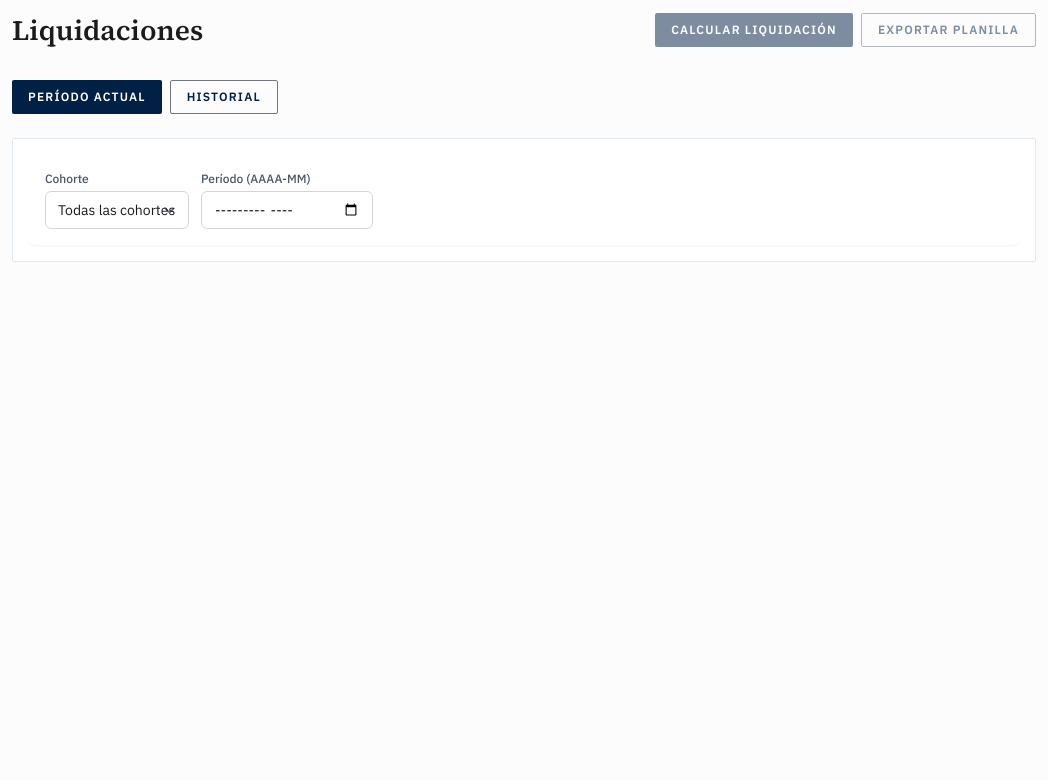
LiquidacionesPage — Calcular liquidación › al seleccionar cohorte y período se habilita y dispara POST /api/liquidaciones/calcular
The width and height of the screenshot is (1048, 780).
Select "Cohorte 2026" in the dropdown labelled "Cohorte" at (117, 210), box [45, 191, 189, 229]
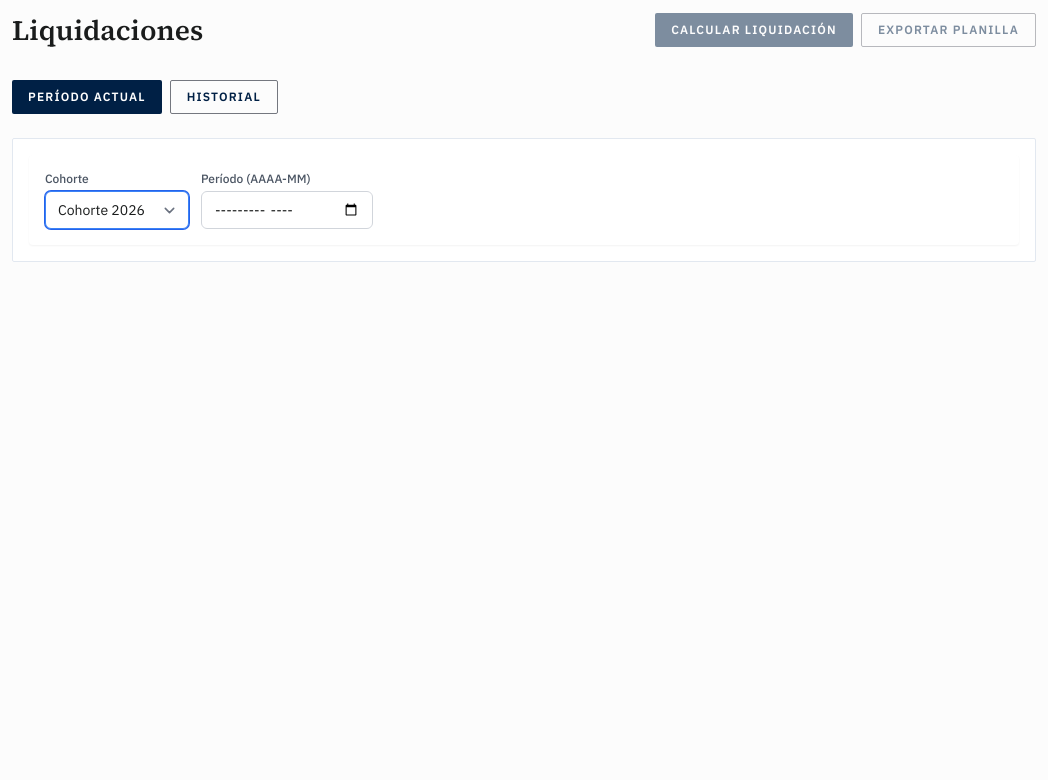
Type "2026-06" into the field labelled "Período (AAAA-MM)".
click(287, 210); type("2026-06")  # box [201, 191, 373, 229]
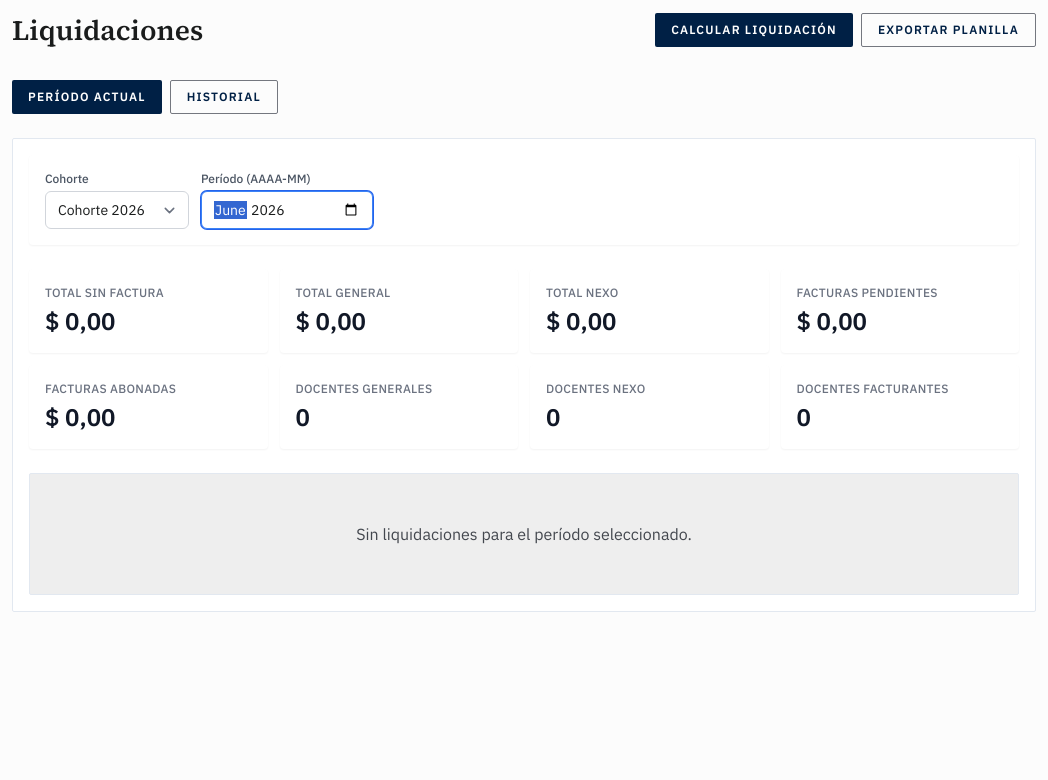
Check: the button "Calcular liquidación" is enabled
Click the button "Calcular liquidación".
click(754, 30)  # box [655, 13, 853, 47]
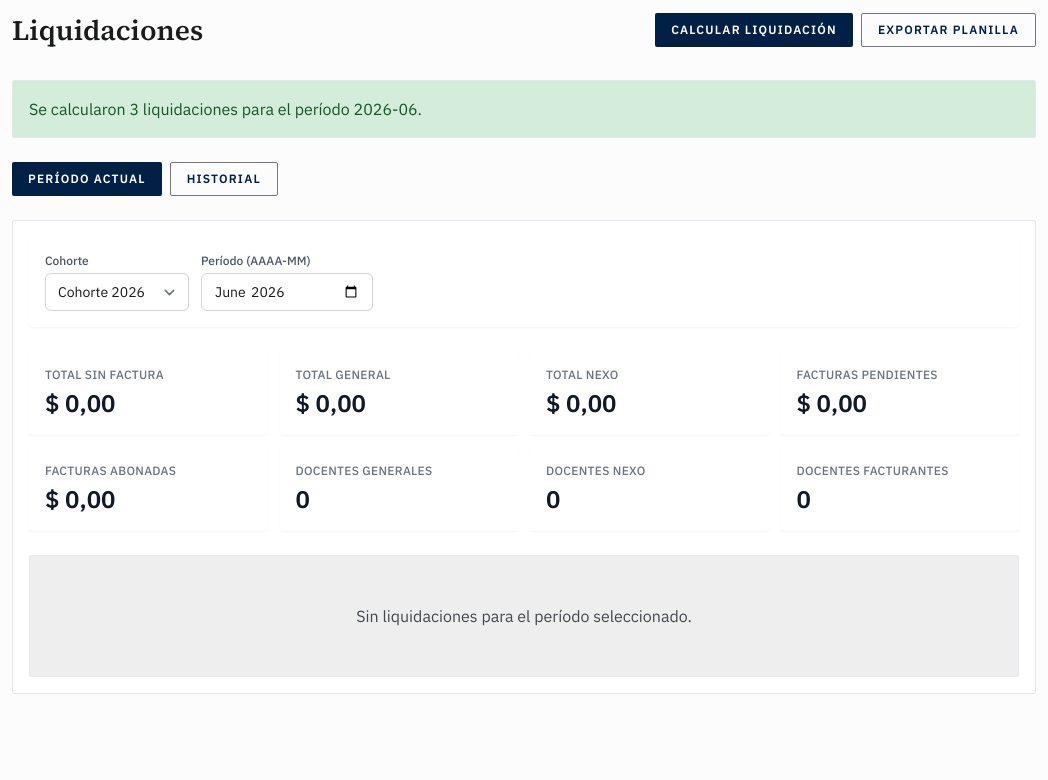
Check: the text "Se calcularon 3 liquidaciones para el período 2026-06." is shown, box [12, 80, 1036, 138]
